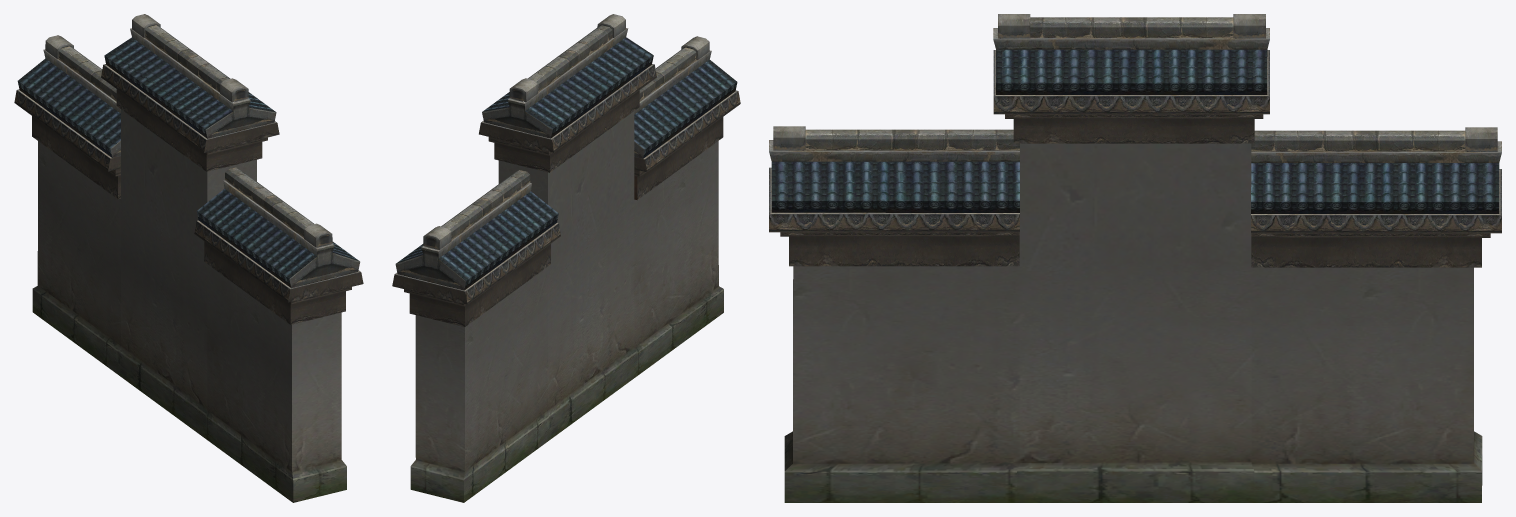
File: jz_weiqiang02_53_36_1806out.fbx
3 views of the same model, side by side, from view 1: azimuth 30°, elevation 25°; view 2: azimuth 150°, elevation 25°; view 3: azimuth 270°, elevation 25° (orthographic). The views are drawn at different scales.
Visible parts, largest first — view 1: jz_weiqiang02; view 2: jz_weiqiang02; view 3: jz_weiqiang02.
Boxes of the visible parts, bbox=[...] form: jz_weiqiang02: bbox=[14, 14, 363, 502]; jz_weiqiang02: bbox=[392, 14, 740, 502]; jz_weiqiang02: bbox=[769, 14, 1501, 502].
Size of the model in its own units: 1.45 by 6.42 by 9.1.
